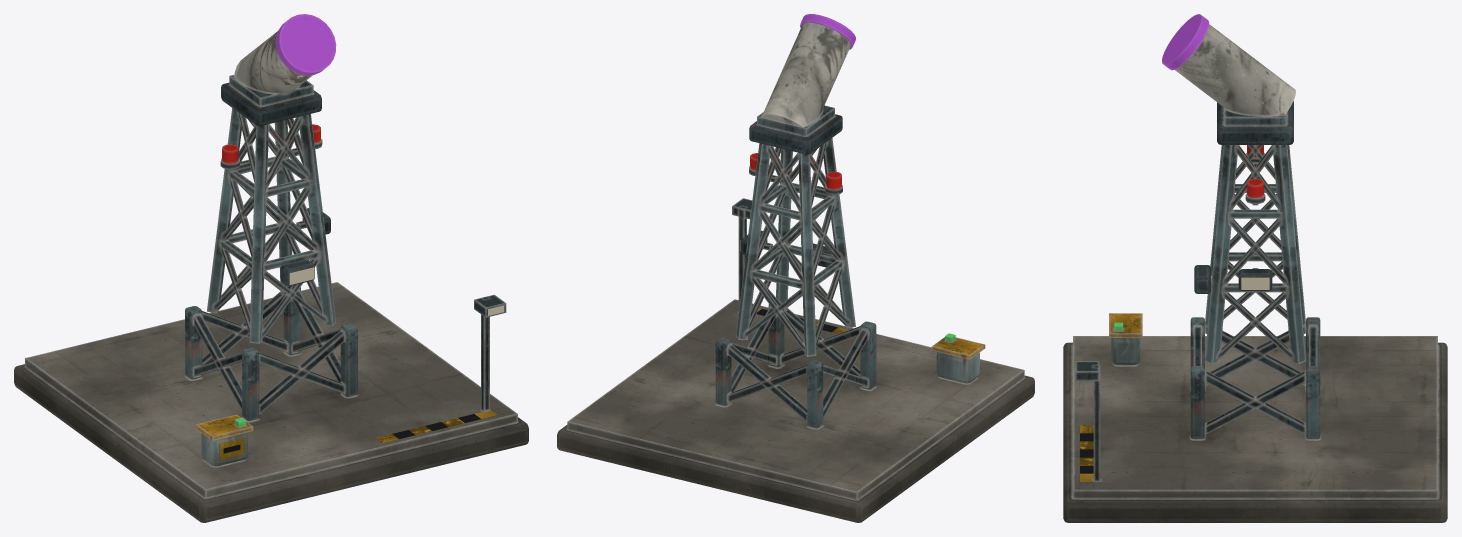
Rendered from space_telescope_module.glb.
3 views of the same model, side by side, from view 1: azimuth 30°, elevation 25°; view 2: azimuth 150°, elevation 25°; view 3: azimuth 270°, elevation 25° (orthographic). The views are drawn at different scales.
Visible parts, largest first — view 1: te_space_telescope_module, move_scope; view 2: te_space_telescope_module, move_scope; view 3: te_space_telescope_module, move_scope.
Boxes of the visible parts, <box> form: te_space_telescope_module: <box>14,82,528,522</box>; move_scope: <box>229,14,336,106</box>; te_space_telescope_module: <box>557,114,1034,522</box>; move_scope: <box>757,14,855,136</box>; te_space_telescope_module: <box>1063,101,1447,522</box>; move_scope: <box>1162,14,1295,125</box>.
Bounding box in the file's own units: 0.8 × 0.9784 × 0.8.
Materials: 1 (1 with a texture image).
